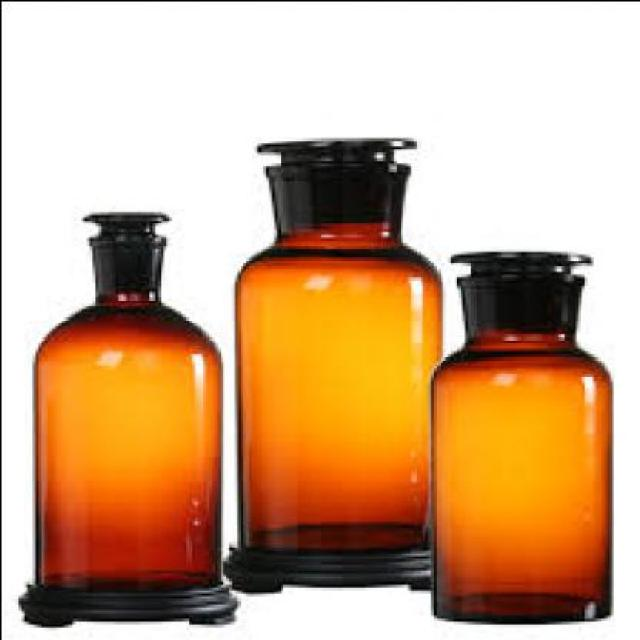glass: (234, 137, 438, 549), (32, 211, 217, 586), (425, 248, 609, 620)
